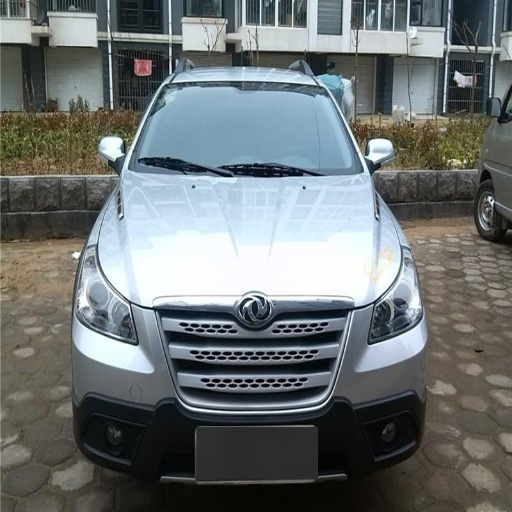front_bumper: (73, 302, 427, 511)
front_right_light: (76, 246, 138, 344)
hood: (101, 170, 401, 306)
